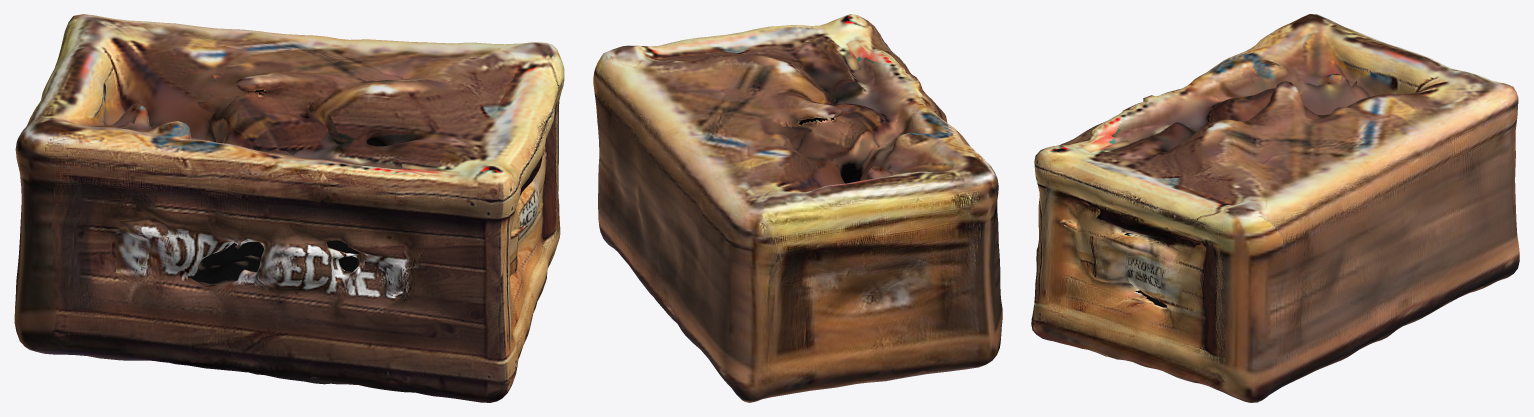
The picture shows the model from 3 angles, left to right: view 1: azimuth 30°, elevation 25°; view 2: azimuth 150°, elevation 25°; view 3: azimuth 270°, elevation 25°; orthographic projection. The views are drawn at different scales.
Parts seen in each view (by area): view 1: model.obj; view 2: model.obj; view 3: model.obj.
Boxes of the visible parts, bbox=[...] form: model.obj: bbox=[14, 14, 564, 402]; model.obj: bbox=[593, 14, 1002, 402]; model.obj: bbox=[1031, 14, 1519, 402].
Size of the model in its own units: 107 by 51.44 by 105.
1 material, 1 textured.
